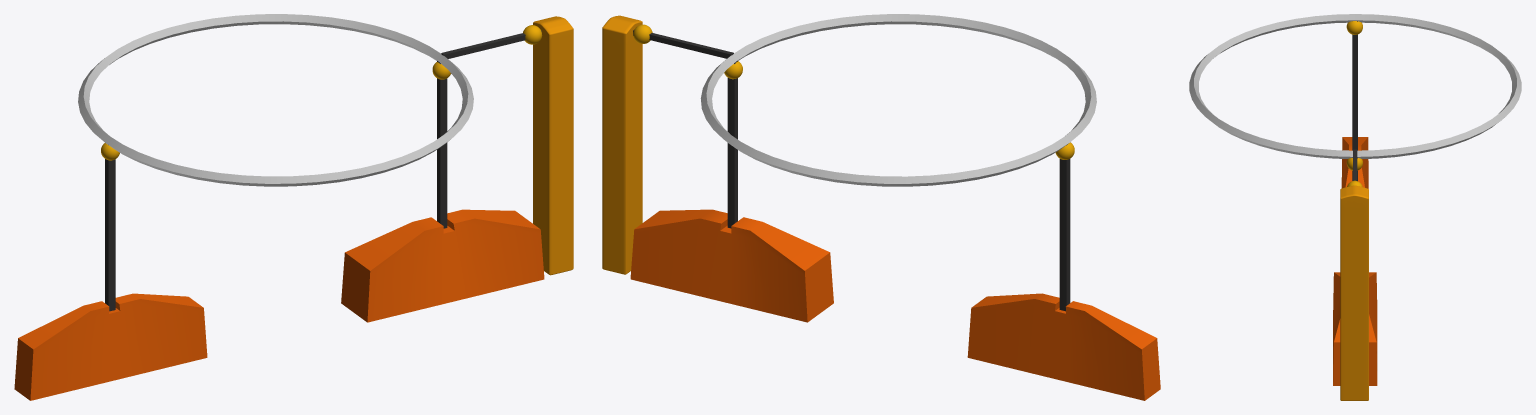
The picture shows the model from 3 angles, left to right: view 1: azimuth 30°, elevation 25°; view 2: azimuth 150°, elevation 25°; view 3: azimuth 270°, elevation 25°; orthographic projection. The views are drawn at different scales.
Parts seen in each view (by area): view 1: pCube34, polySurface773, polySurface766, polySurface762; view 2: pCube34, polySurface773, polySurface766, polySurface762; view 3: polySurface762, polySurface766, pCube34, polySurface773.
Part boxes in pixels (left/top/right/bottom): pCube34: left=341, top=61, right=544, bottom=322; polySurface773: left=14, top=143, right=207, bottom=400; polySurface766: left=441, top=16, right=573, bottom=275; polySurface762: left=78, top=14, right=473, bottom=186; pCube34: left=630, top=60, right=833, bottom=322; polySurface773: left=967, top=142, right=1160, bottom=400; polySurface766: left=602, top=15, right=733, bottom=274; polySurface762: left=700, top=14, right=1096, bottom=186; polySurface762: left=1189, top=14, right=1521, bottom=158; polySurface766: left=1340, top=149, right=1368, bottom=400; pCube34: left=1333, top=157, right=1377, bottom=385; polySurface773: left=1341, top=21, right=1368, bottom=188.
Size of the model in its own units: 26.74 by 11.57 by 16.86.
